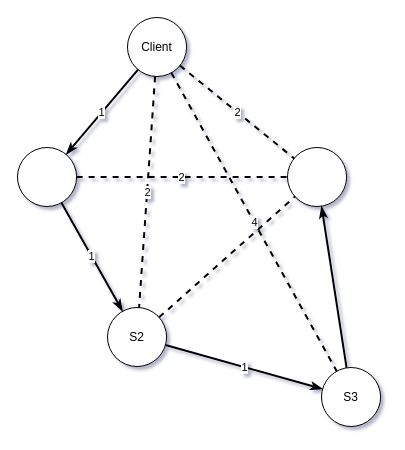
This 405x450 diagram has some shape labels left out. The shapes that lost their labels are listed below. From the top down, each one's centre as x and y in pixels, then its label:
[46,176]: S1
[316,176]: S4
